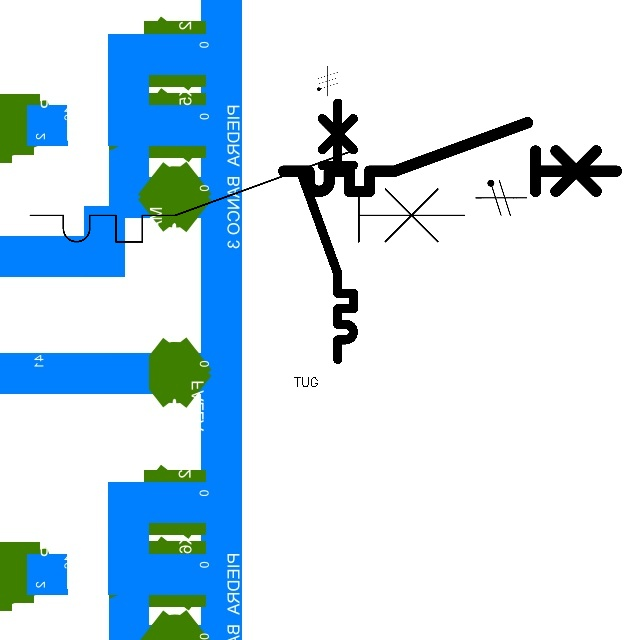interruptor_termomagnetico: (19, 141, 476, 253), (275, 114, 625, 200), (294, 96, 360, 366)
